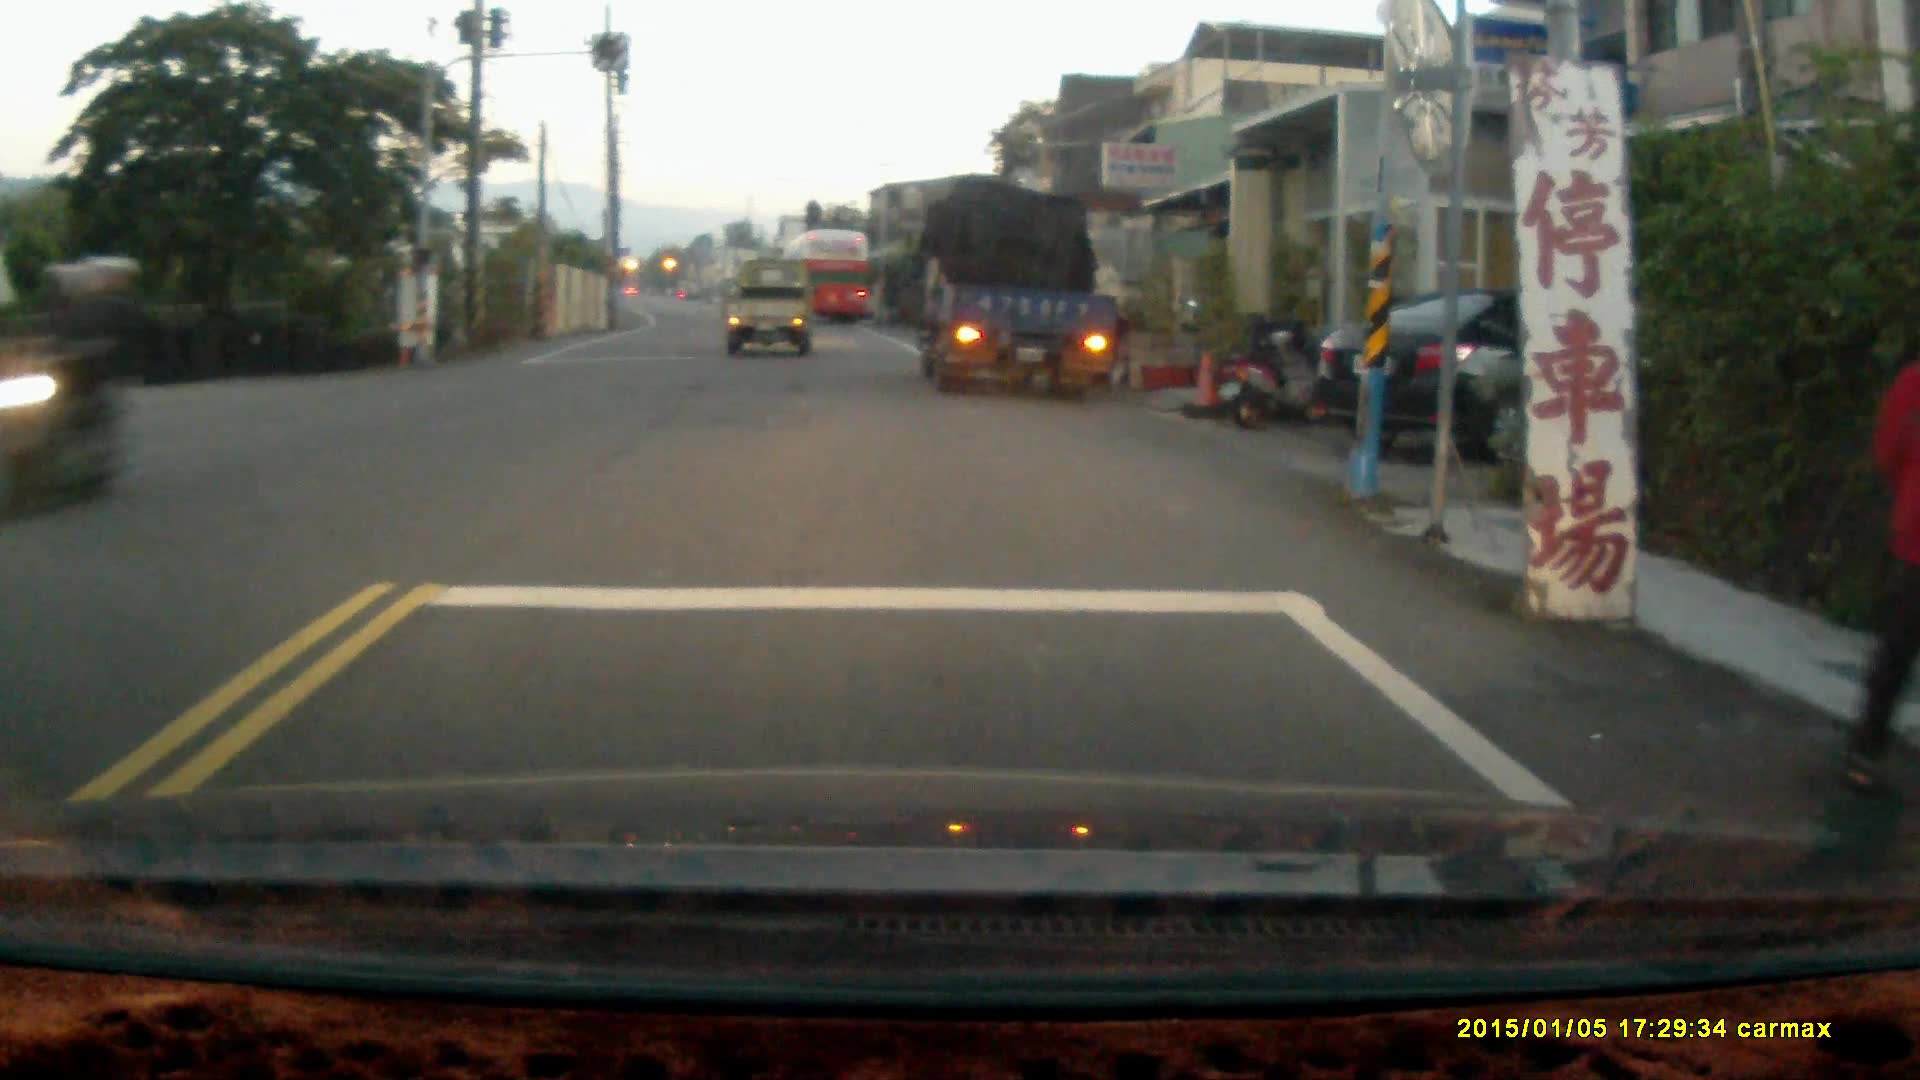rider: (0, 252, 143, 522)
vehicle: (1310, 286, 1708, 470), (921, 183, 1124, 388), (782, 230, 877, 332), (725, 258, 816, 353)
